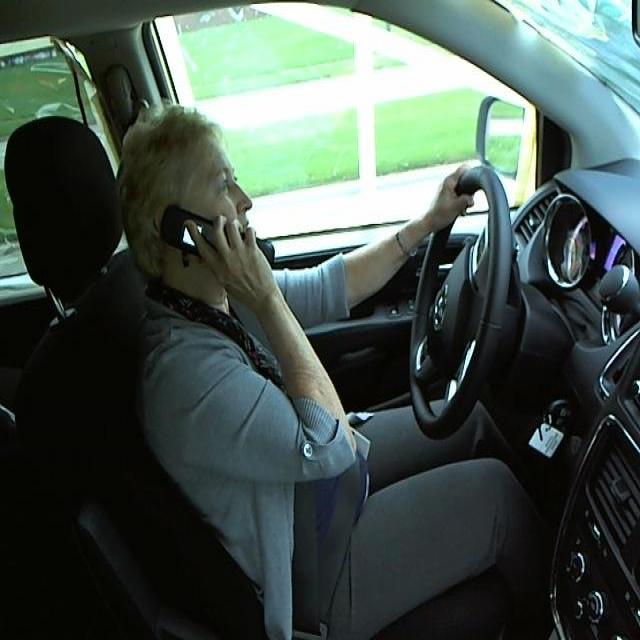Cellphone_calling: (160, 190, 284, 306)
